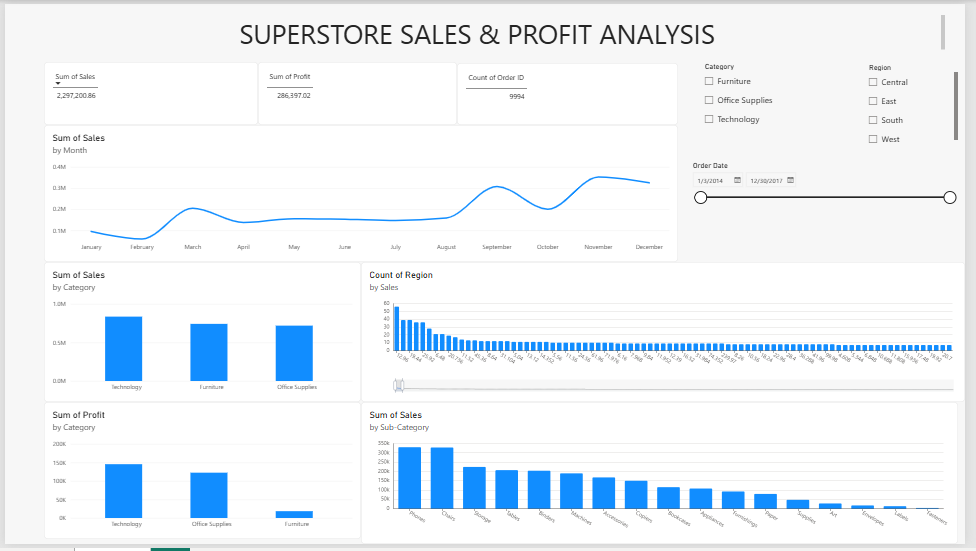

The page's visual inventory and layout, read from the dashboard file:
{"tool":"powerbi","page":{"name":"Page 1","canvas":[1920,1080],"ordinal":0},"visuals":[{"type":"clusteredColumnChart","fields":{"Category":["Sample - Superstore.Category"],"Y":["Sum(Sample - Superstore.Sales)"]},"box":[78,516,634,280],"z":0},{"type":"columnChartVisualA1B2C3D4E5F6A7B8","fields":{"category":["Sample - Superstore.Sales"],"values":["CountNonNull(Sample - Superstore.Region)"]},"box":[712,516,1208,280],"z":1000},{"type":"tableEx","fields":{"Values":["Sum(Sample - Superstore.Sales)"]},"box":[78,116,428,126],"z":2000},{"type":"tableEx","fields":{"Values":["Sum(Sample - Superstore.Profit)"]},"box":[506,116,398,126],"z":3000},{"type":"lineChart","fields":{"Category":["Sample - Superstore.Order Date.Variation.Date Hierarchy.Month"],"Y":["Sum(Sample - Superstore.Sales)"]},"box":[78,242,1268,274],"z":4000},{"type":"clusteredColumnChart","fields":{"Category":["Sample - Superstore.Category"],"Y":["Sum(Sample - Superstore.Profit)"]},"box":[78,796,634,274],"z":5000},{"type":"columnChartVisualA1B2C3D4E5F6A7B8","fields":{"category":["Sample - Superstore.Sub-Category"],"values":["Sum(Sample - Superstore.Sales)"]},"box":[712,796,1194,284],"z":6000},{"type":"slicer","fields":{"Values":["Sample - Superstore.Region"]},"box":[1720,118,186,166],"z":7000},{"type":"slicer","fields":{"Values":["Sample - Superstore.Category"]},"box":[1392,116,194,162],"z":8000},{"type":"slicer","fields":{"Values":["Sample - Superstore.Order Date"]},"box":[1368,314,538,202],"z":9000},{"type":"textbox","box":[16,22,1864,70],"z":10000},{"type":"tableEx","fields":{"Values":["Sample - Superstore.Order ID"]},"box":[904,118,442,124],"z":10001}]}

Visuals, with their boxes in screenshot pixels (x1, y1, x2, y2), scaled from the page's 1920x1080 canvas onto the 976x551 screenshot:
clusteredColumnChart - Sample - Superstore.Category x Sum(Sample - Superstore.Sales): BBox(40, 263, 362, 406)
columnChartVisualA1B2C3D4E5F6A7B8 - Sample - Superstore.Sales x CountNonNull(Sample - Superstore.Region): BBox(362, 263, 975, 406)
tableEx - Sum(Sample - Superstore.Sales): BBox(40, 59, 257, 123)
tableEx - Sum(Sample - Superstore.Profit): BBox(257, 59, 460, 123)
lineChart - Sample - Superstore.Order Date.Variation.Date Hierarchy.Month x Sum(Sample - Superstore.Sales): BBox(40, 123, 684, 263)
clusteredColumnChart - Sample - Superstore.Category x Sum(Sample - Superstore.Profit): BBox(40, 406, 362, 546)
columnChartVisualA1B2C3D4E5F6A7B8 - Sample - Superstore.Sub-Category x Sum(Sample - Superstore.Sales): BBox(362, 406, 969, 550)
slicer - Sample - Superstore.Region: BBox(874, 60, 969, 145)
slicer - Sample - Superstore.Category: BBox(708, 59, 806, 142)
slicer - Sample - Superstore.Order Date: BBox(695, 160, 969, 263)
textbox: BBox(8, 11, 956, 47)
tableEx - Sample - Superstore.Order ID: BBox(460, 60, 684, 123)
